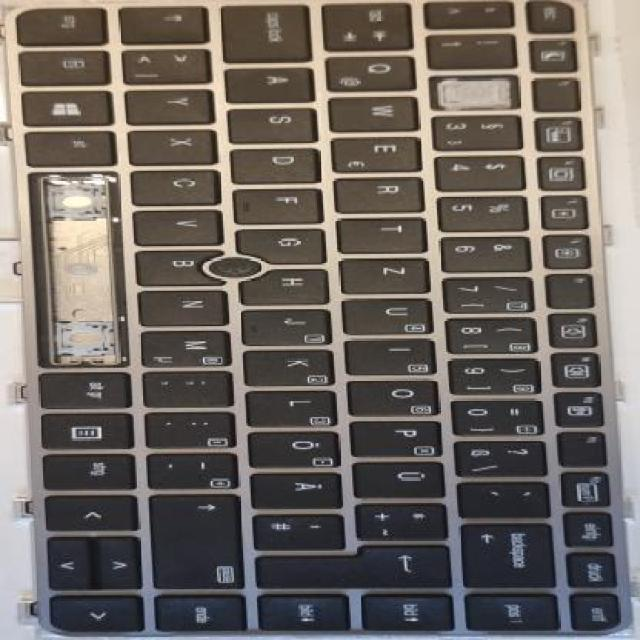Keyboard problems: (35, 175, 125, 363), (434, 77, 517, 109)
